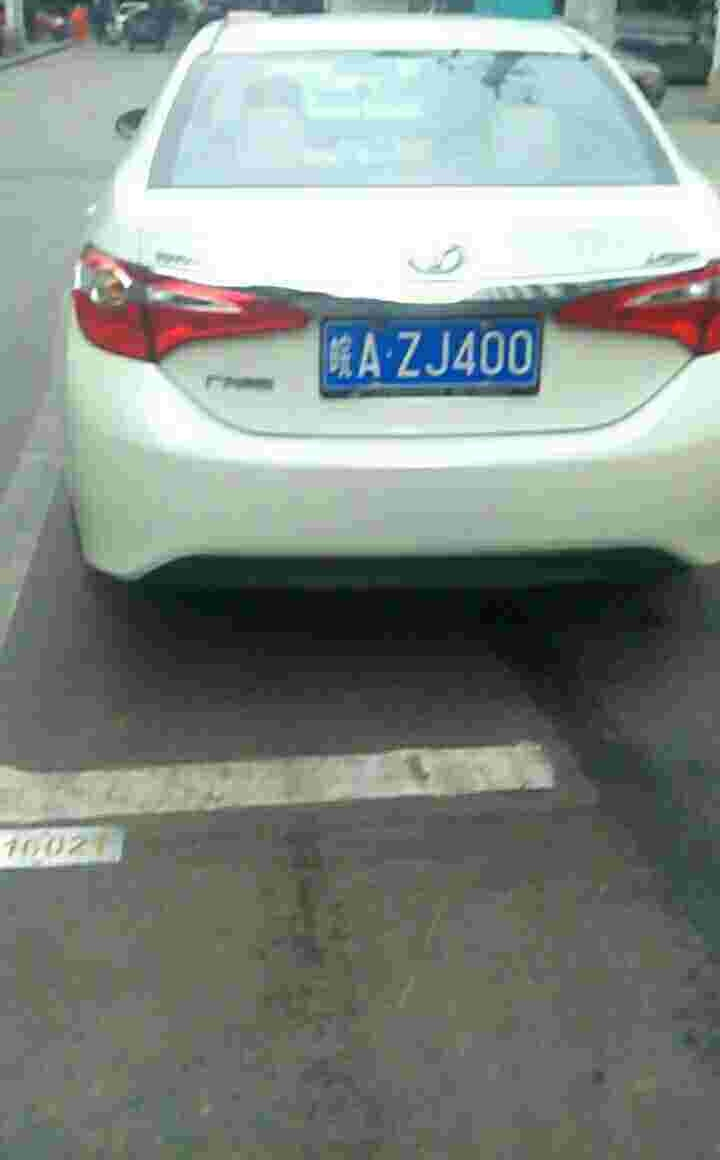license_plate: (321, 316, 541, 393)
